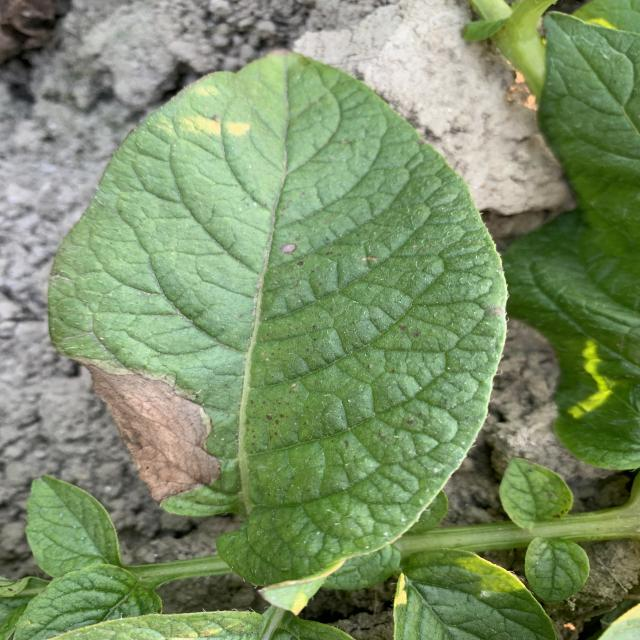lateblight: (85, 364, 220, 502)
